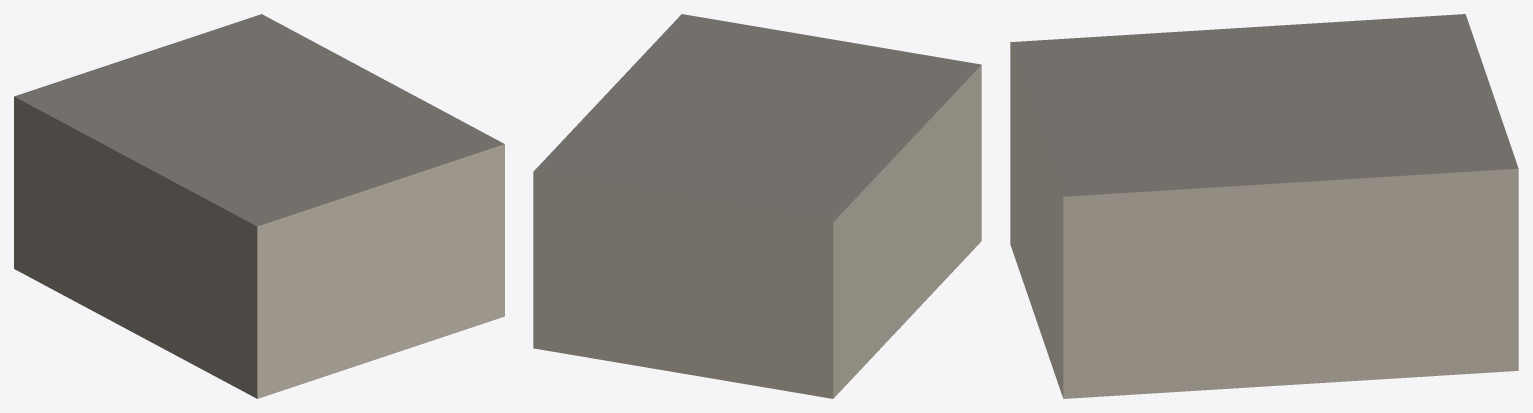
The picture shows the model from 3 angles, left to right: view 1: azimuth 30°, elevation 25°; view 2: azimuth 150°, elevation 25°; view 3: azimuth 270°, elevation 25°; orthographic projection. The views are drawn at different scales.
Parts seen in each view (by area): view 1: HP-w496382749; view 2: HP-w496382749; view 3: HP-w496382749.
Part boxes in pixels (x1,y1,x2,y2): HP-w496382749: (14,14,504,398); HP-w496382749: (533,14,981,398); HP-w496382749: (1010,14,1518,398).
Size of the model in its own units: 34.89 by 18 by 41.01.
